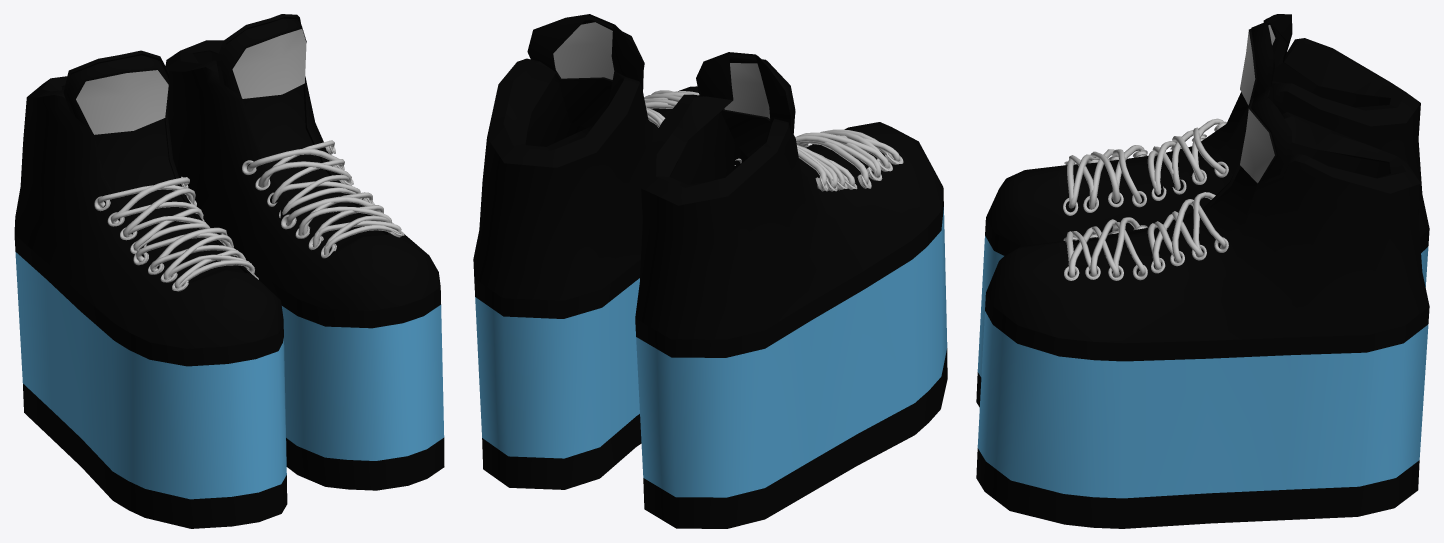
The picture shows the model from 3 angles, left to right: view 1: azimuth 30°, elevation 25°; view 2: azimuth 150°, elevation 25°; view 3: azimuth 270°, elevation 25°; orthographic projection. The views are drawn at different scales.
Visible parts, largest first — view 1: s4studio_mesh_1_geom.011, s4studio_mesh_1_geom.009, Plane.002, Plane.001, Plane.003, Plane.004; view 2: s4studio_mesh_1_geom.011, s4studio_mesh_1_geom.009, Plane.002, Plane.001, Plane.004; view 3: s4studio_mesh_1_geom.009, s4studio_mesh_1_geom.011, Plane.002, Plane.001, Plane.004, Plane.003.
Part boxes in pixels (left/top/right/bottom): s4studio_mesh_1_geom.011: left=14, top=50, right=287, bottom=528; s4studio_mesh_1_geom.009: left=165, top=14, right=444, bottom=490; Plane.002: left=97, top=177, right=254, bottom=288; Plane.001: left=247, top=140, right=401, bottom=254; Plane.003: left=242, top=145, right=404, bottom=258; Plane.004: left=94, top=176, right=258, bottom=291; s4studio_mesh_1_geom.011: left=635, top=52, right=947, bottom=528; s4studio_mesh_1_geom.009: left=473, top=14, right=698, bottom=489; Plane.002: left=734, top=129, right=900, bottom=190; Plane.001: left=644, top=90, right=699, bottom=127; Plane.004: left=735, top=144, right=903, bottom=191; s4studio_mesh_1_geom.009: left=976, top=86, right=1429, bottom=528; s4studio_mesh_1_geom.011: left=976, top=14, right=1429, bottom=407; Plane.002: left=1067, top=118, right=1225, bottom=209; Plane.001: left=1066, top=192, right=1225, bottom=277; Plane.004: left=1063, top=121, right=1228, bottom=215; Plane.003: left=1063, top=225, right=1228, bottom=280.
Bounding box in the file's own units: 153 × 182 × 189.
